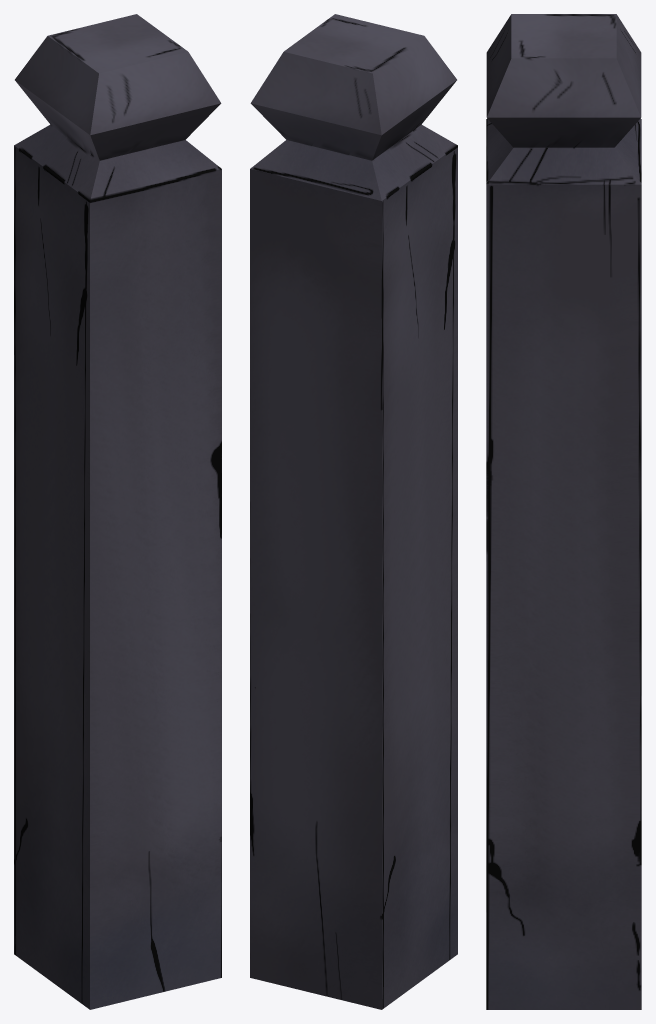
File: fence1_pole.fbx
3 views of the same model, side by side, from view 1: azimuth 30°, elevation 25°; view 2: azimuth 150°, elevation 25°; view 3: azimuth 270°, elevation 25° (orthographic). The views are drawn at different scales.
Visible parts, largest first — view 1: fence_beam; view 2: fence_beam; view 3: fence_beam.
Boxes of the visible parts, <box> form: fence_beam: <box>14,14,221,1009</box>; fence_beam: <box>250,14,457,1009</box>; fence_beam: <box>486,14,641,1009</box>.
Bounding box in the file's own units: 32.07 × 214 × 32.07.
